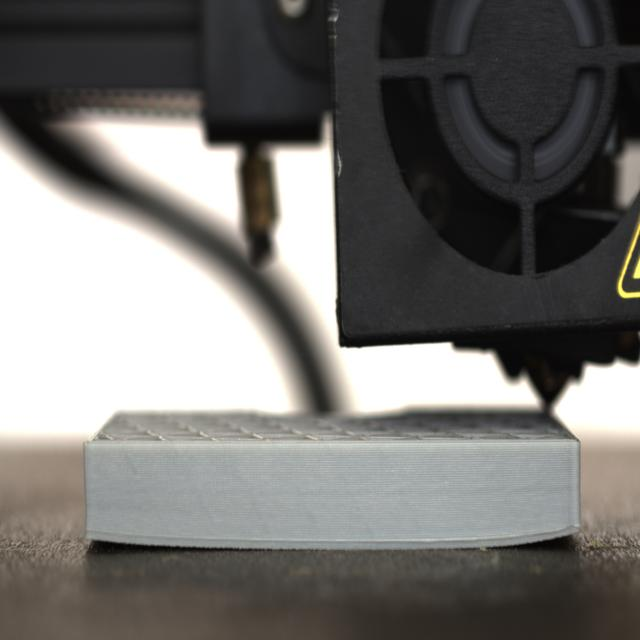Warping: (518, 519, 582, 552), (79, 526, 148, 554)
